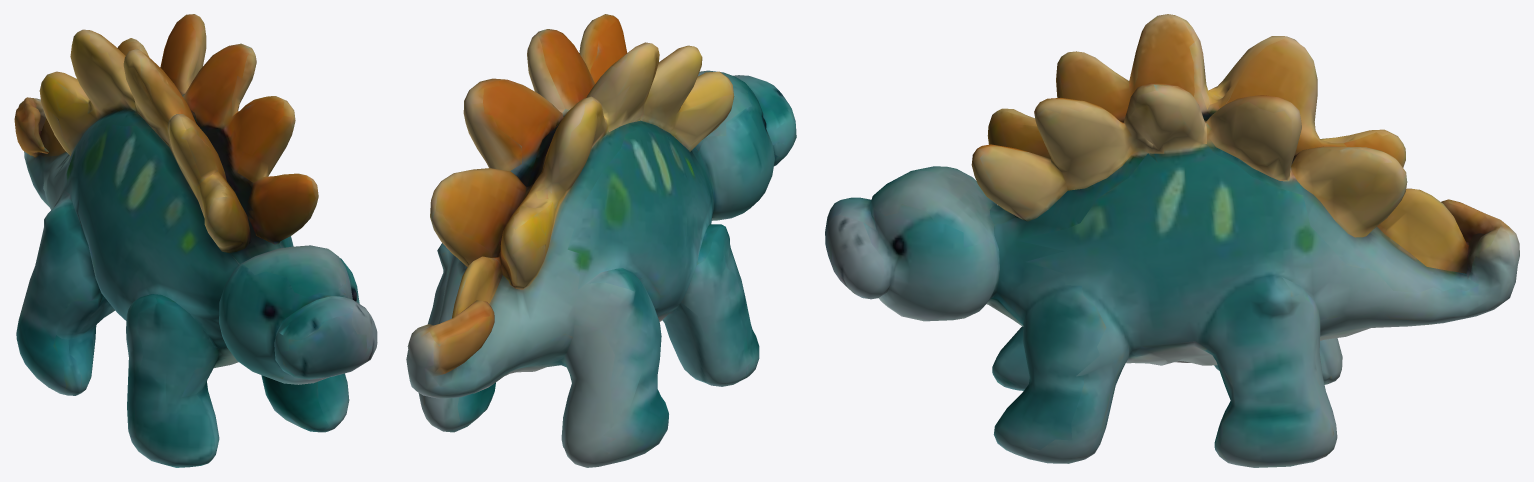
The model's file is stego.glb.
3 renders of one model, left to right at view 1: azimuth 30°, elevation 25°; view 2: azimuth 150°, elevation 25°; view 3: azimuth 270°, elevation 25°, orthographic. The views are drawn at different scales.
Parts seen in each view (by area): view 1: Body; view 2: Body; view 3: Body.
Part boxes in pixels (x1,y1,x2,y2): Body: (14, 14, 377, 467); Body: (406, 14, 796, 467); Body: (825, 14, 1519, 467).
Bounding box in the file's own units: 0.1968 × 0.2998 × 0.4952.
Materials: 1 (1 with a texture image).
